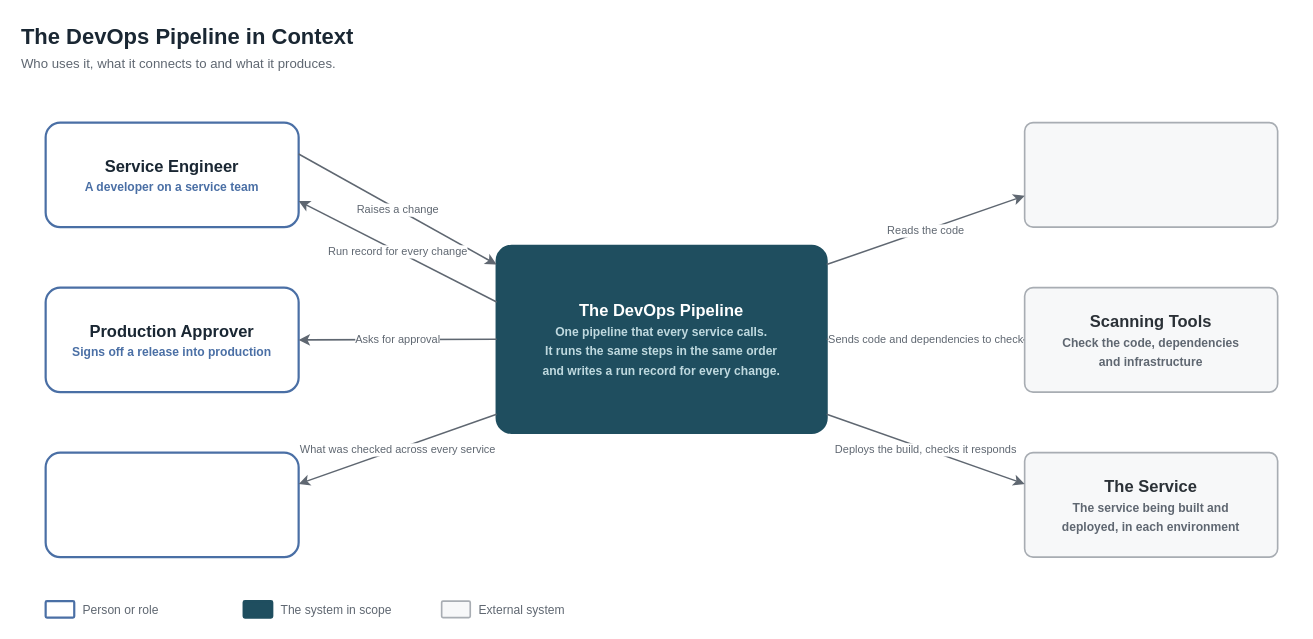
This 1313x639 diagram has some shape labels left out. The box of each missing label's shape, as (x1, y1, x2, y2) in pixels:
GitHub Holds the code and runs the pipeline: (1023, 121, 1278, 227)
Governance Reads the view across services: (44, 451, 299, 558)
